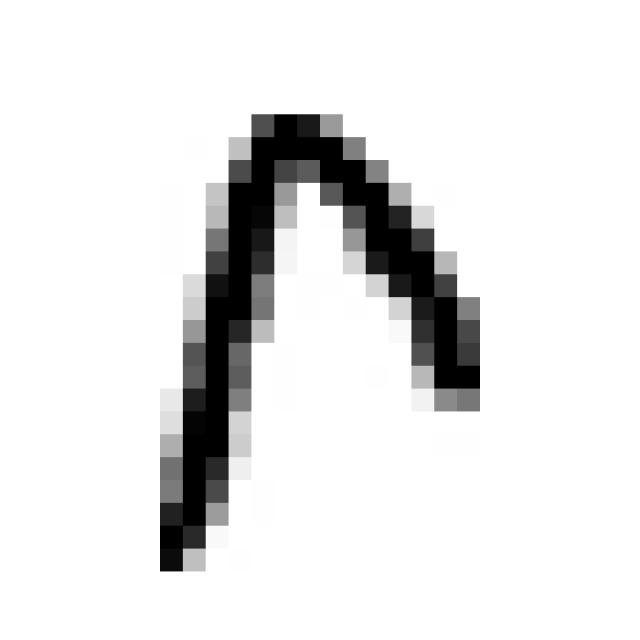8 -eight-: (128, 78, 505, 588)
